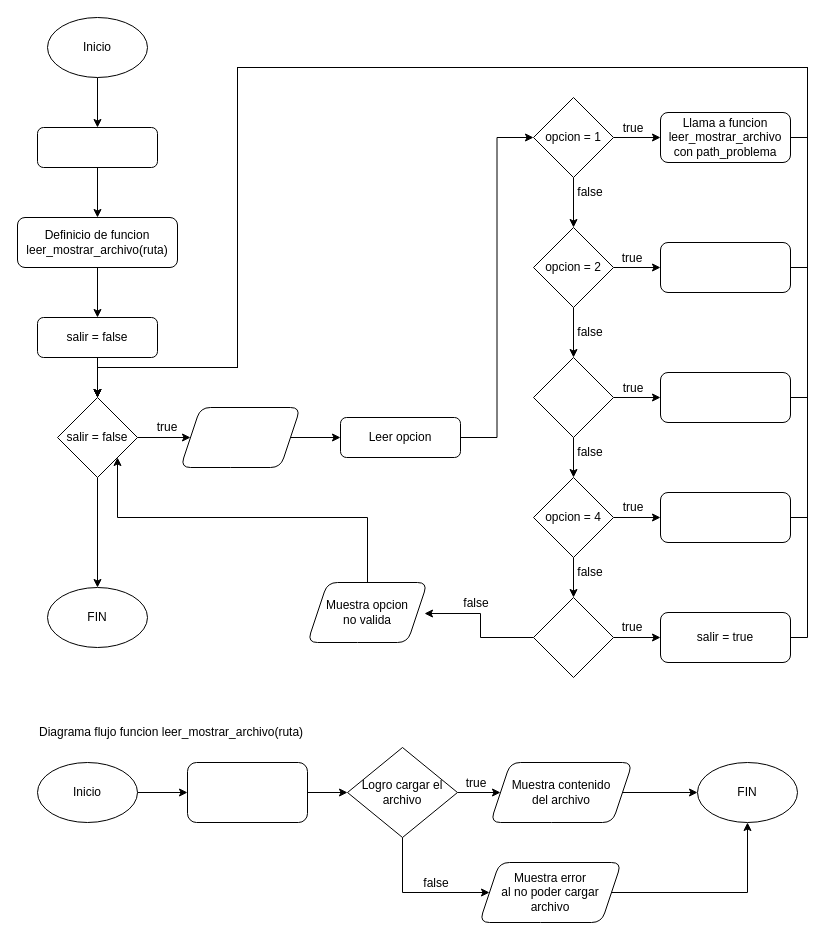
This 833x940 diagram has some shape labels left out. Here are the shapes that lost their labels. From the top down, the centre of each, then its label:
the point at 97,147: Definicion de rutas
the point at 725,267: Llama a funcion leer_mostrar_archivo con path_pseudocodigo
the point at 573,397: opcion = 3
the point at 725,397: Llama a funcion leer_mostrar_archivo con path_datasets
the point at 240,437: Muestra menu
the point at 725,517: Llama a funcion leer_mostrar_archivo con path_sugerencias
the point at 573,637: opcion = 5
the point at 247,792: Carga el archivo con ruta
